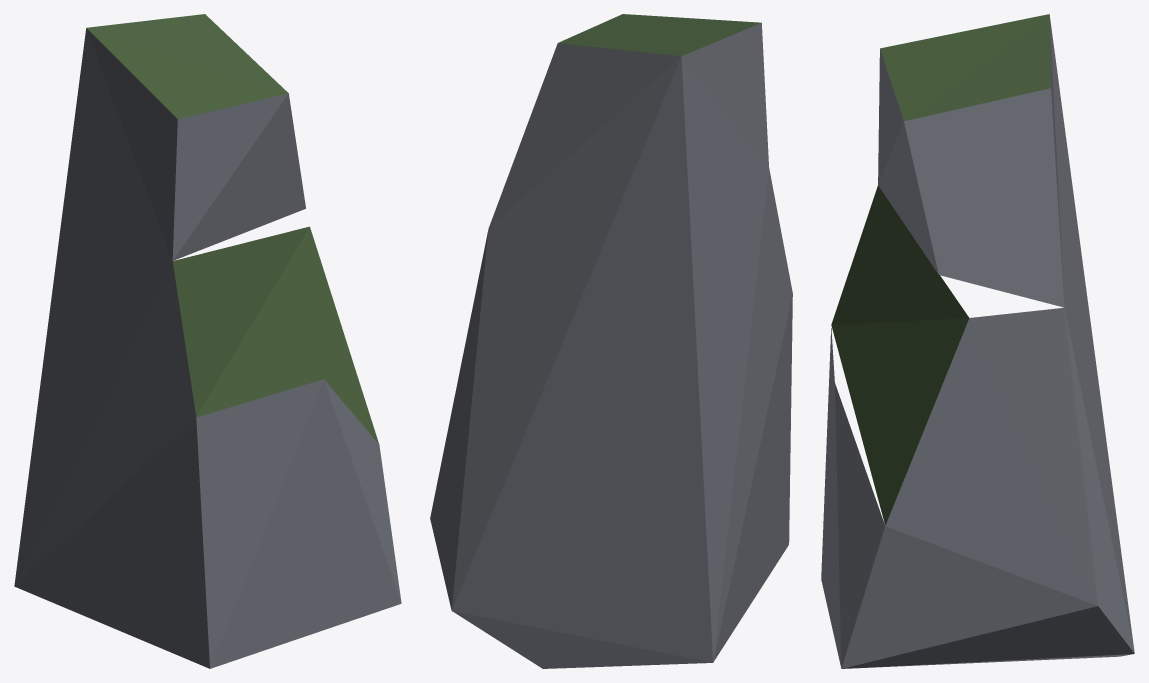
Rendered from Rock_Moss_1_lod.glb.
3 renders of one model, left to right at view 1: azimuth 30°, elevation 25°; view 2: azimuth 150°, elevation 25°; view 3: azimuth 270°, elevation 25°, orthographic. The views are drawn at different scales.
Visible parts, largest first — view 1: Rock_Moss_1; view 2: Rock_Moss_1; view 3: Rock_Moss_1.
Boxes of the visible parts, bbox=[...] form: Rock_Moss_1: bbox=[14, 14, 401, 668]; Rock_Moss_1: bbox=[430, 14, 792, 668]; Rock_Moss_1: bbox=[821, 14, 1134, 668].
Size of the model in its own units: 0.454 by 0.95 by 0.4545.
